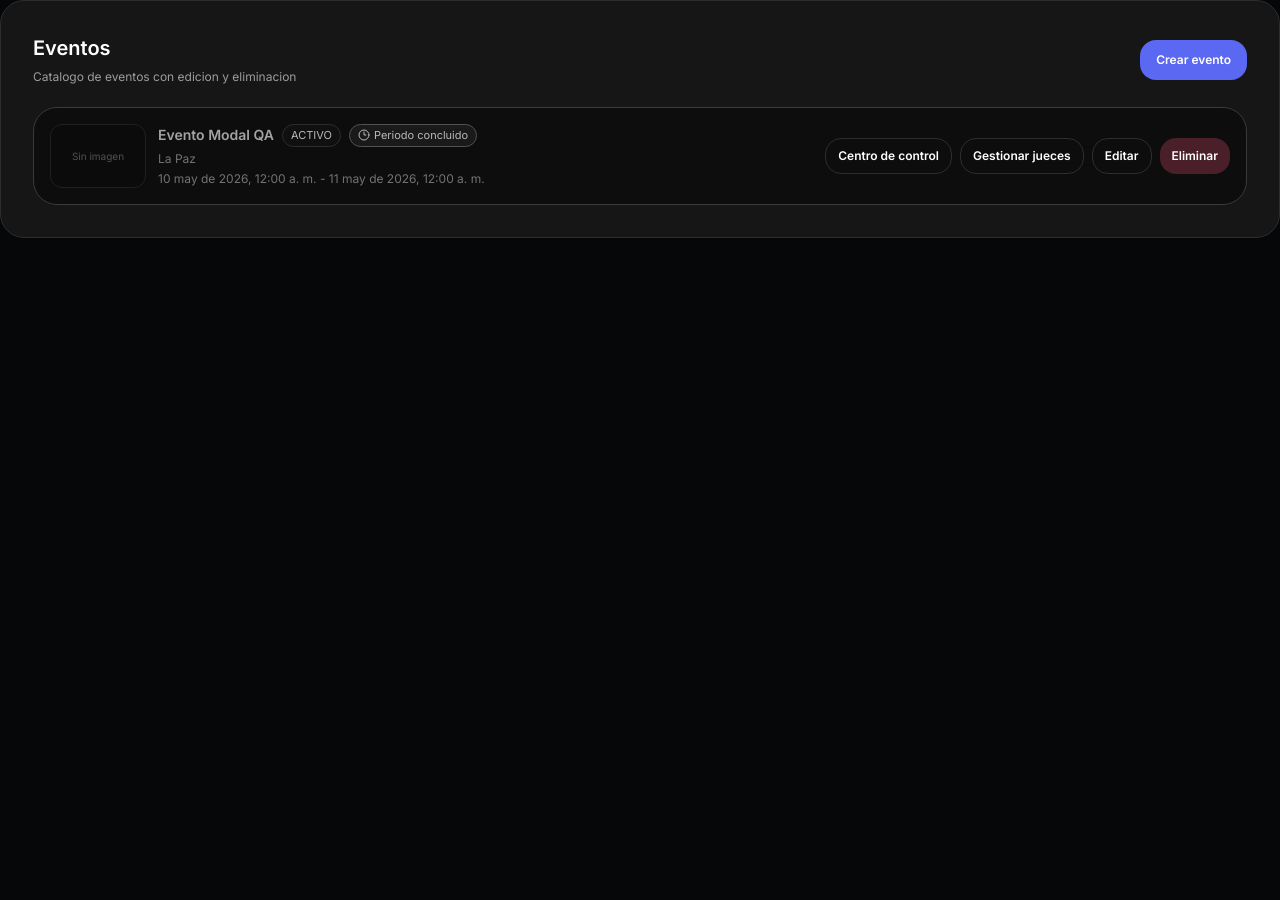
Test case: AdminEventsSection › hides judge manager by default, opens modal on click and closes with close button
Expected: the text "Gestionar jueces por evento" is not shown
Click the button "Gestionar jueces" at x=1022, y=156, box [960, 138, 1084, 174]
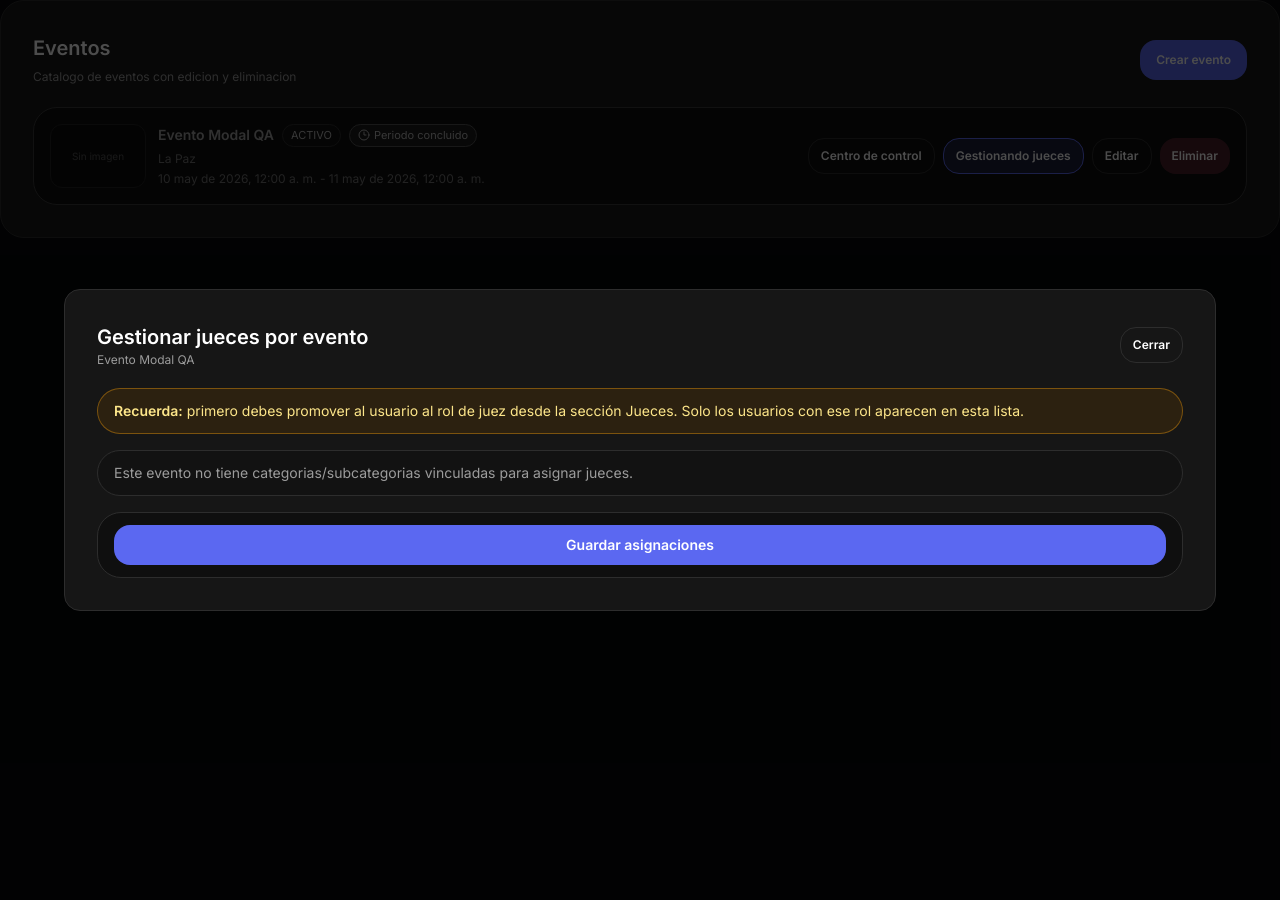
Now the heading "Gestionar jueces por evento" is shown, box [97, 322, 368, 352]
Now the text "primero debes promover al usuario al rol de juez desde la sección Jueces" is shown, box [183, 402, 1024, 419]
Click the button "Cerrar" at x=1151, y=345, box [1120, 327, 1183, 363]
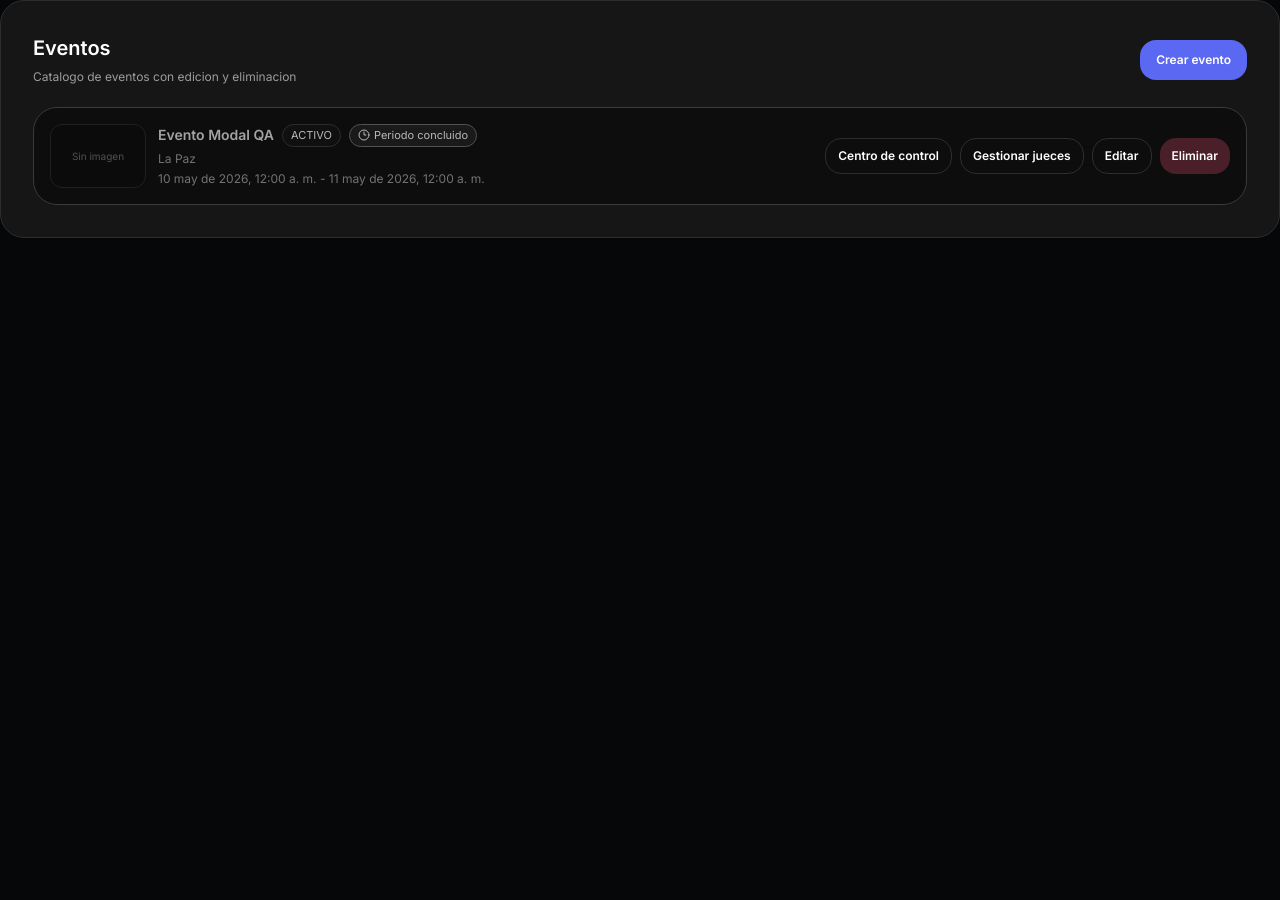
Now the heading "Gestionar jueces por evento" is gone
